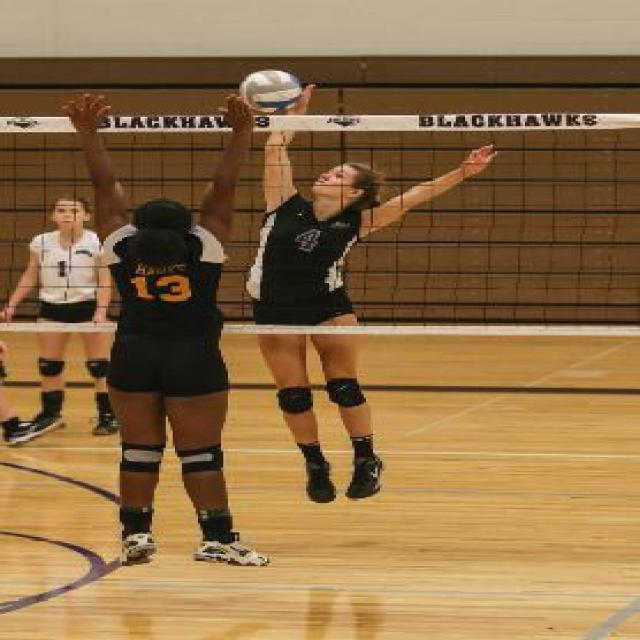volleyball: (241, 68, 302, 115)
